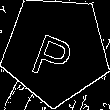P_N: (30, 20, 82, 81)
